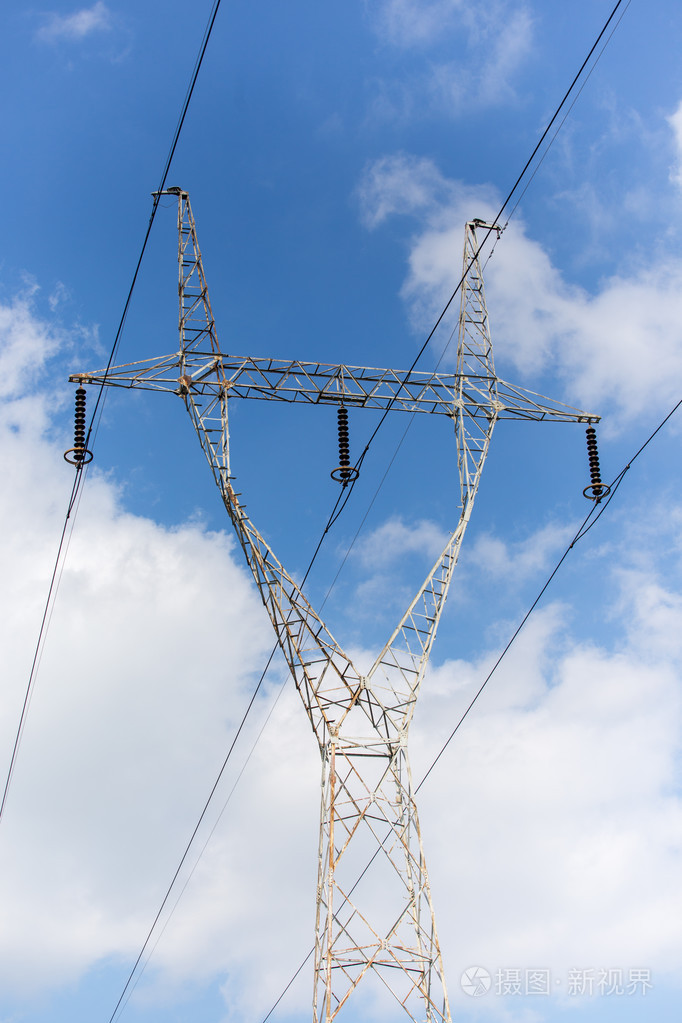insulator: (584, 424, 609, 495), (68, 386, 90, 463), (334, 404, 355, 476)
